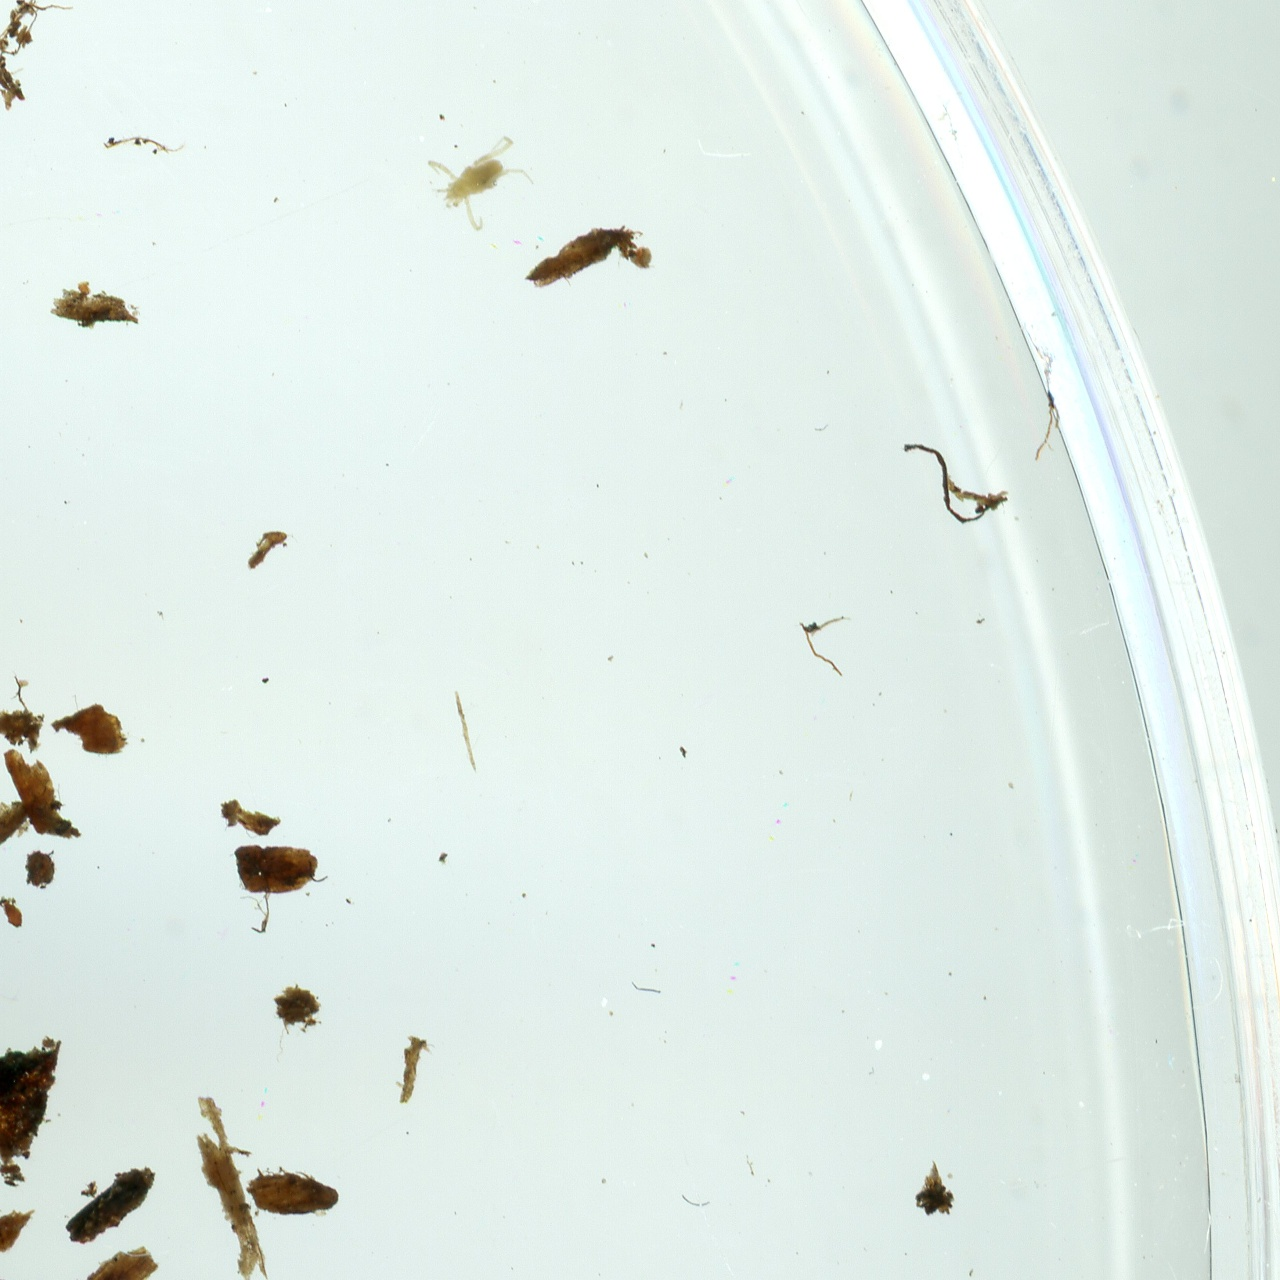arthropod: (416, 113, 550, 244)
